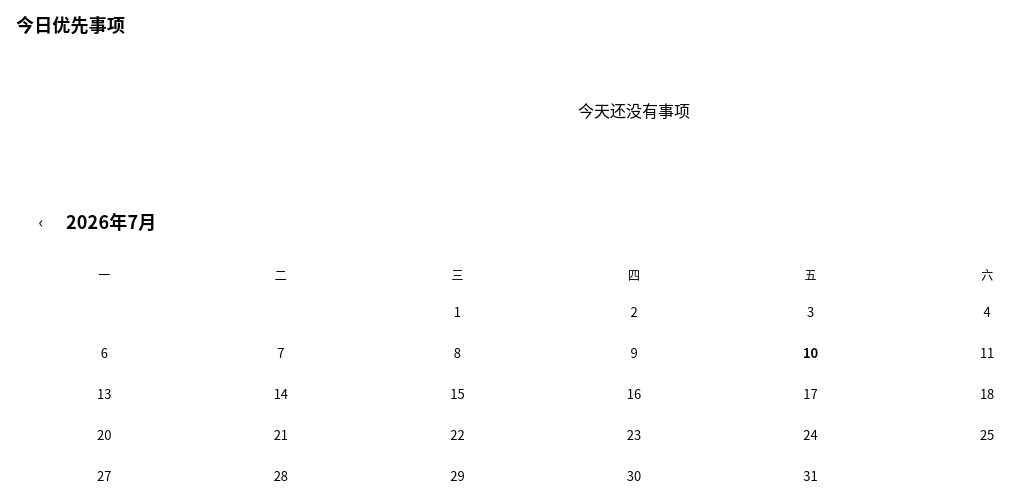
Scenario: task workspace › loads tasks when the selected date changes
Click the button with test id "calendar-day-2026-07-11".
click(987, 352)  # box [971, 336, 1004, 369]
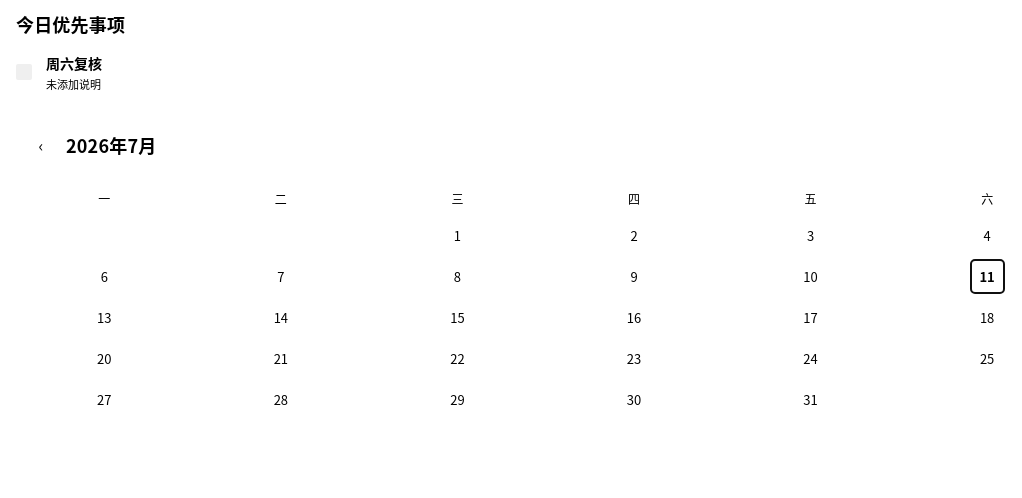
Check: the text "周六复核" is shown, box [46, 52, 102, 72]
